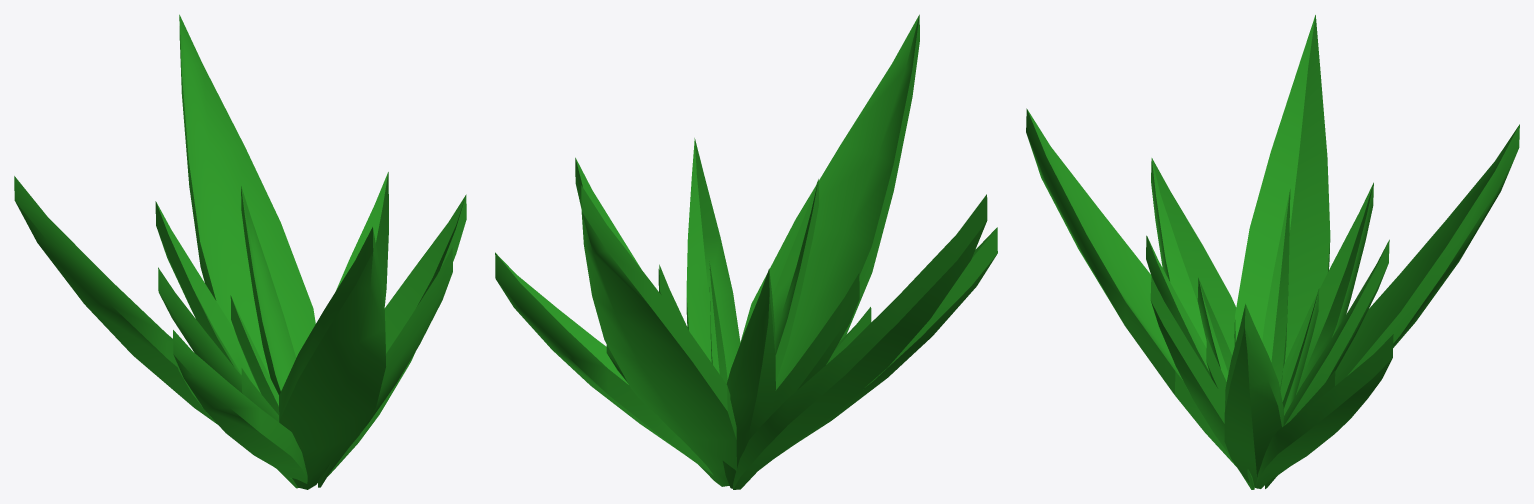
File: Grama.fbx
3 views of the same model, side by side, from view 1: azimuth 30°, elevation 25°; view 2: azimuth 150°, elevation 25°; view 3: azimuth 270°, elevation 25° (orthographic). The views are drawn at different scales.
Visible parts, largest first — view 1: Plane.024; view 2: Plane.024; view 3: Plane.024.
Boxes of the visible parts, box(x1,y1,x2,y2) form: Plane.024: box(14, 14, 466, 489); Plane.024: box(495, 14, 997, 489); Plane.024: box(1026, 15, 1519, 489).
Bounding box in the file's own units: 100 × 86.02 × 106.
